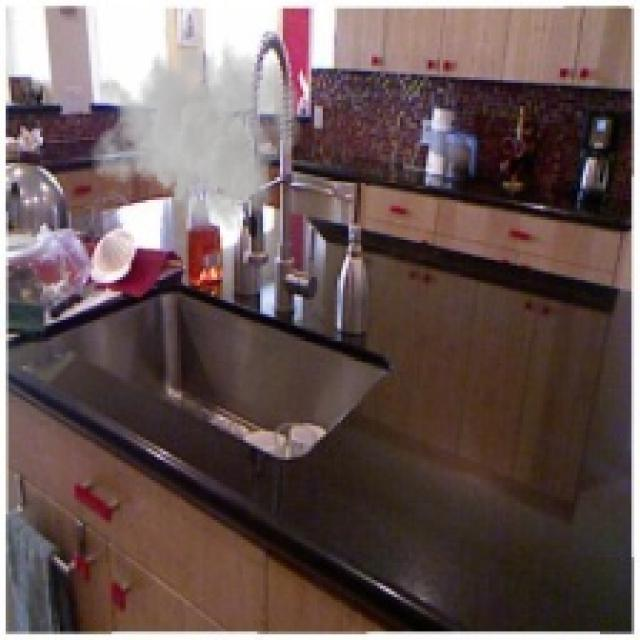Smoke: (88, 20, 303, 232)
